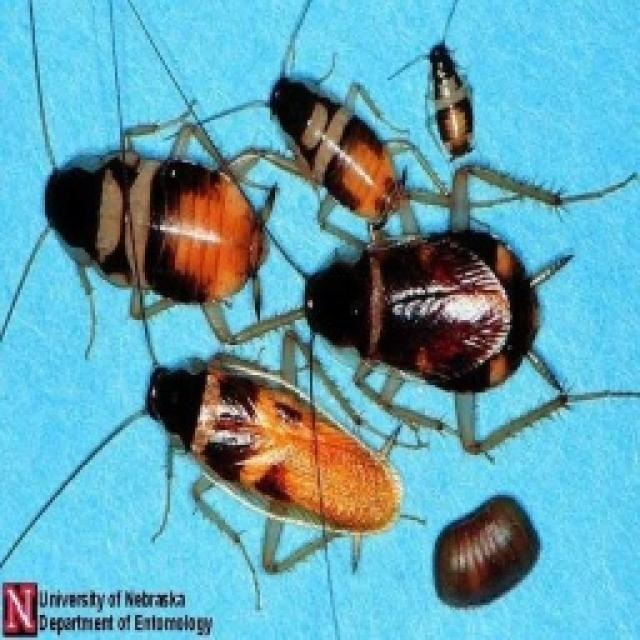cockroach: (107, 350, 435, 569), (286, 199, 605, 423), (33, 119, 282, 333), (251, 63, 433, 247), (397, 27, 492, 181)
